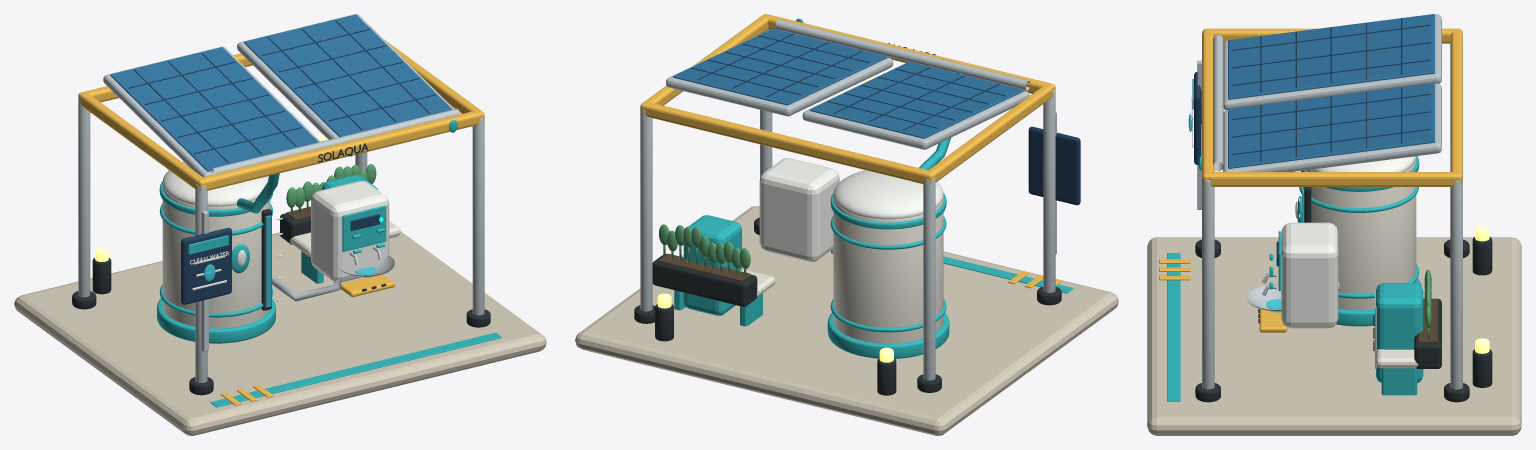
File: solaqua_civic_water_station.glb
3 views of the same model, side by side, from view 1: azimuth 30°, elevation 25°; view 2: azimuth 150°, elevation 25°; view 3: azimuth 270°, elevation 25° (orthographic). The views are drawn at different scales.
Visible parts, largest first — view 1: Paved community plinth, PV deep blue cell field, PV deep blue cell field.001, Rainwater cistern, Purification cabinet, Front canopy beam, Public information board, Canopy post.002, Canopy post.001, Side canopy beam, Inlaid blue safety route, Cistern domed lid (+17 smaller); view 2: Paved community plinth, Rainwater cistern, PV deep blue cell field, PV deep blue cell field.001, Purification cabinet, Rear canopy beam, Cistern domed lid, Public information board, Rain gutter, PV aluminum frame.001, PV aluminum frame, Integrated planter box (+16 smaller); view 3: Paved community plinth, PV deep blue cell field, PV deep blue cell field.001, Rainwater cistern, Purification cabinet, Side canopy beam.001, Side power module, PV aluminum frame.001, PV aluminum frame, Canopy post.002, Canopy post.003, Inlaid blue safety route (+19 smaller).
Part boxes in pixels (left/top/right/bottom): Paved community plinth: left=14, top=231, right=546, bottom=435; PV deep blue cell field: left=110, top=47, right=318, bottom=171; PV deep blue cell field.001: left=244, top=14, right=452, bottom=137; Rainwater cistern: left=162, top=185, right=270, bottom=328; Purification cabinet: left=311, top=181, right=389, bottom=282; Front canopy beam: left=196, top=110, right=484, bottom=190; Public information board: left=181, top=227, right=231, bottom=304; Canopy post.002: left=472, top=117, right=484, bottom=315; Canopy post.001: left=78, top=98, right=90, bottom=297; Side canopy beam: left=78, top=92, right=202, bottom=188; Inlaid blue safety route: left=210, top=332, right=502, bottom=407; Cistern domed lid: left=162, top=161, right=268, bottom=206; Paved community plinth: left=575, top=206, right=1118, bottom=435; Rainwater cistern: left=833, top=196, right=943, bottom=343; PV deep blue cell field: left=809, top=62, right=1023, bottom=138; PV deep blue cell field.001: left=673, top=28, right=886, bottom=105; Purification cabinet: left=759, top=158, right=839, bottom=261; Rear canopy beam: left=640, top=102, right=932, bottom=184; Cistern domed lid: left=833, top=170, right=943, bottom=219; Public information board: left=1028, top=126, right=1080, bottom=205; Rain gutter: left=775, top=19, right=1030, bottom=90; PV aluminum frame.001: left=666, top=29, right=893, bottom=116; PV aluminum frame: left=802, top=62, right=1029, bottom=149; Integrated planter box: left=652, top=254, right=757, bottom=306; Paved community plinth: left=1147, top=237, right=1521, bottom=435; PV deep blue cell field: left=1228, top=14, right=1434, bottom=99; PV deep blue cell field.001: left=1228, top=83, right=1434, bottom=168; Rainwater cistern: left=1302, top=158, right=1416, bottom=310; Purification cabinet: left=1281, top=222, right=1338, bottom=328; Side canopy beam.001: left=1209, top=172, right=1460, bottom=186; Side power module: left=1376, top=283, right=1423, bottom=382; PV aluminum frame.001: left=1223, top=83, right=1441, bottom=171; PV aluminum frame: left=1223, top=14, right=1441, bottom=110; Canopy post.002: left=1202, top=178, right=1214, bottom=389; Canopy post.003: left=1450, top=178, right=1462, bottom=389; Inlaid blue safety route: left=1167, top=253, right=1180, bottom=401.
Bounding box in the file's own units: 4.5 × 3.01 × 3.8.
